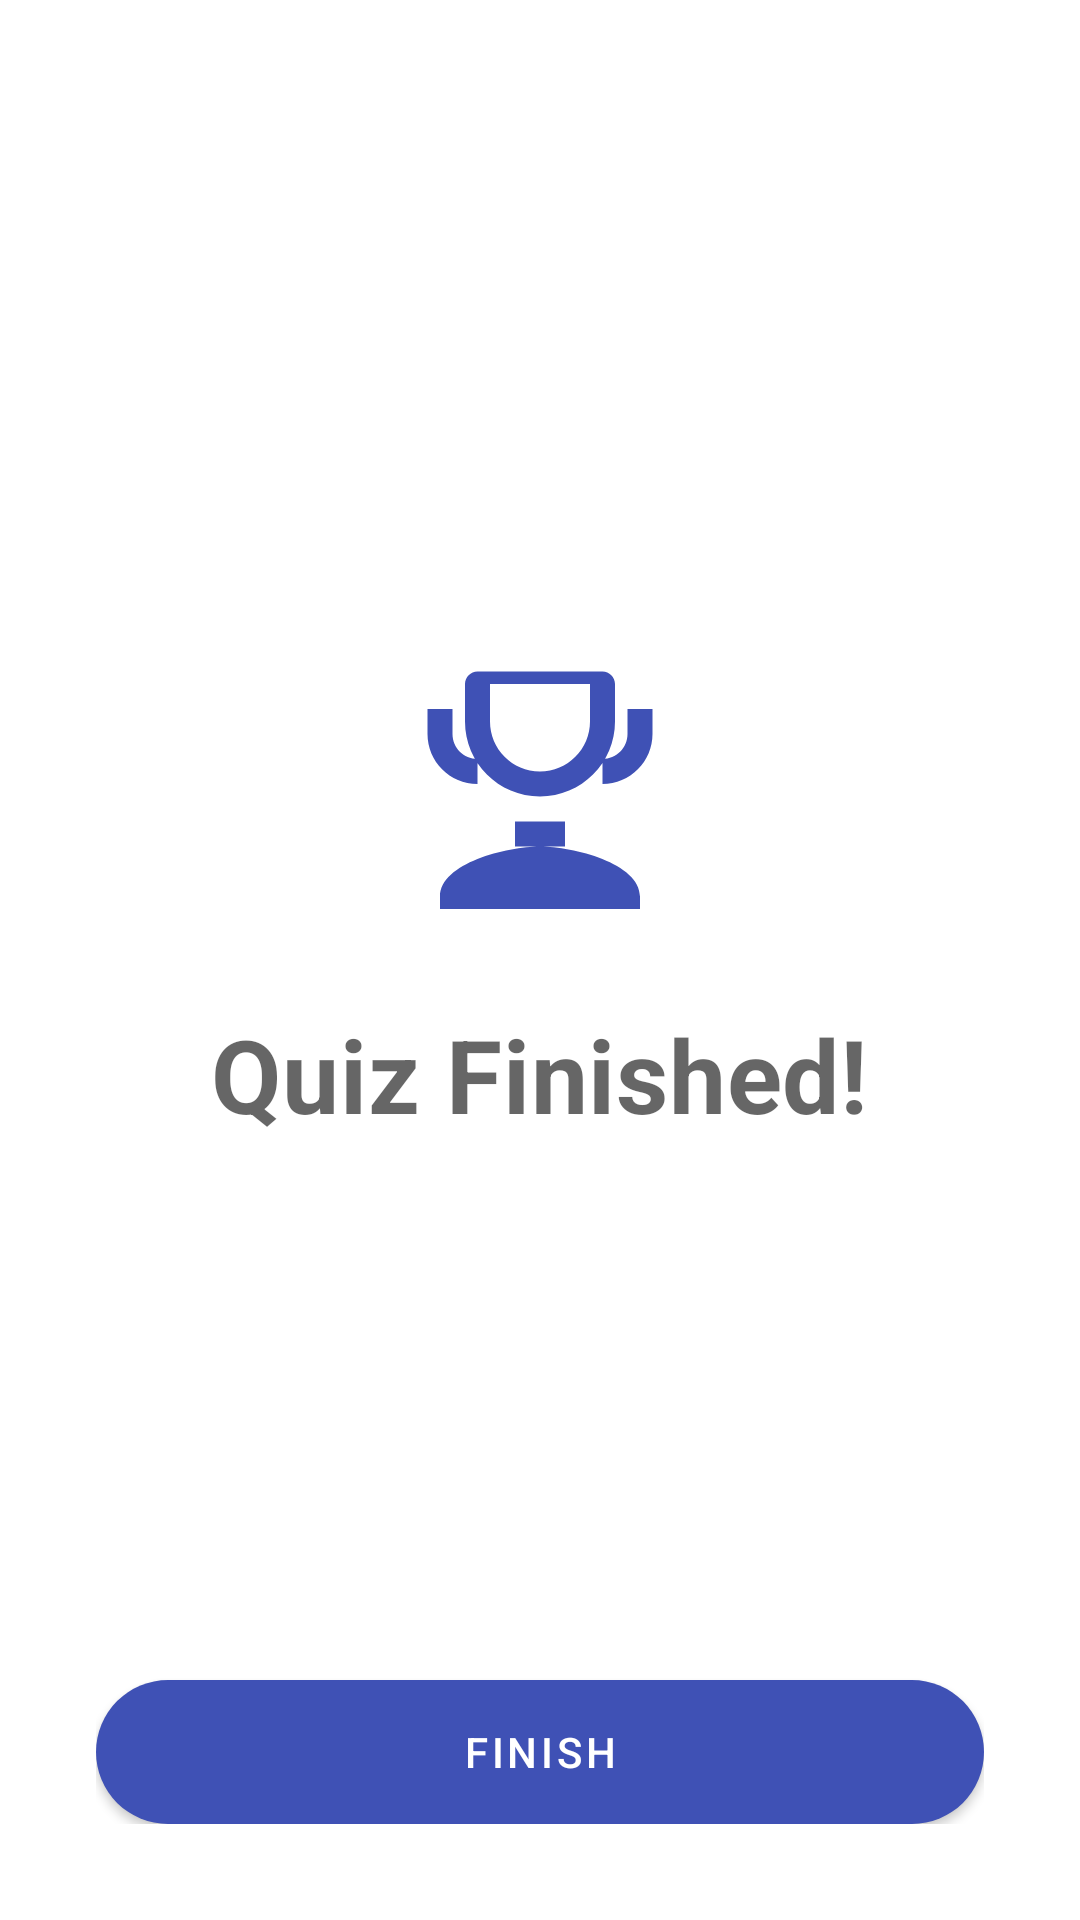

Screen size 1080px x 1920px. Icon name, then its center in pixels as (x,y):
Quiz complete trophy: (540,790)
